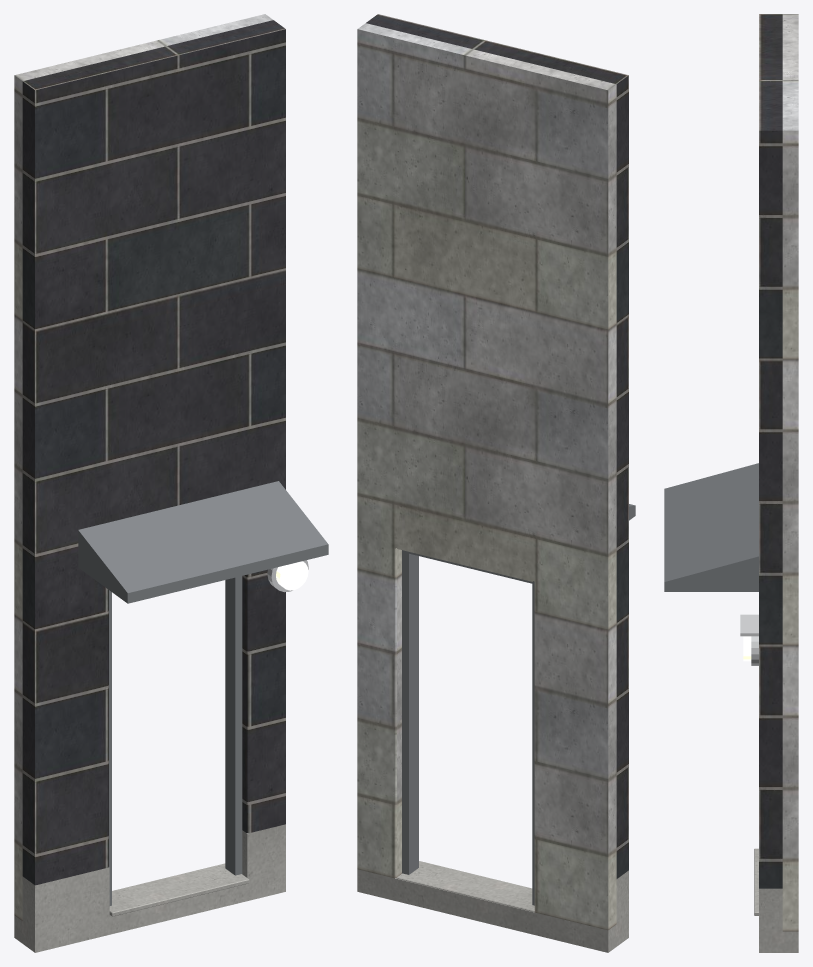
File: k_door_r.glb
The picture shows the model from 3 angles, left to right: view 1: azimuth 30°, elevation 25°; view 2: azimuth 150°, elevation 25°; view 3: azimuth 270°, elevation 25°; orthographic projection. The views are drawn at different scales.
Visible parts, largest first — view 1: k_door_r_block_d, k_door_r_steel_d, k_door_r_concrete, k_door_r_block_l, k_door_r_lamp_glass; view 2: k_door_r_block_l, k_door_r_block_d, k_door_r_concrete, k_door_r_steel_d; view 3: k_door_r_block_d, k_door_r_block_l, k_door_r_steel_d, k_door_r_concrete, k_door_r_metal.
Part boxes in pixels (x1,y1,x2,y2): k_door_r_block_d: (22, 20, 285, 885); k_door_r_steel_d: (78, 481, 328, 905); k_door_r_concrete: (14, 824, 285, 952); k_door_r_block_l: (14, 14, 272, 920); k_door_r_lamp_glass: (276, 561, 308, 590); k_door_r_block_l: (357, 23, 616, 930); k_door_r_block_d: (366, 14, 628, 878); k_door_r_concrete: (357, 861, 628, 952); k_door_r_steel_d: (402, 504, 635, 905); k_door_r_block_d: (759, 14, 782, 888); k_door_r_block_l: (782, 14, 798, 931); k_door_r_steel_d: (664, 463, 758, 591); k_door_r_concrete: (754, 848, 798, 952); k_door_r_metal: (740, 614, 758, 665).
Size of the model in its own units: 1.89 by 5.75 by 0.85.
6 materials, 3 textured.
